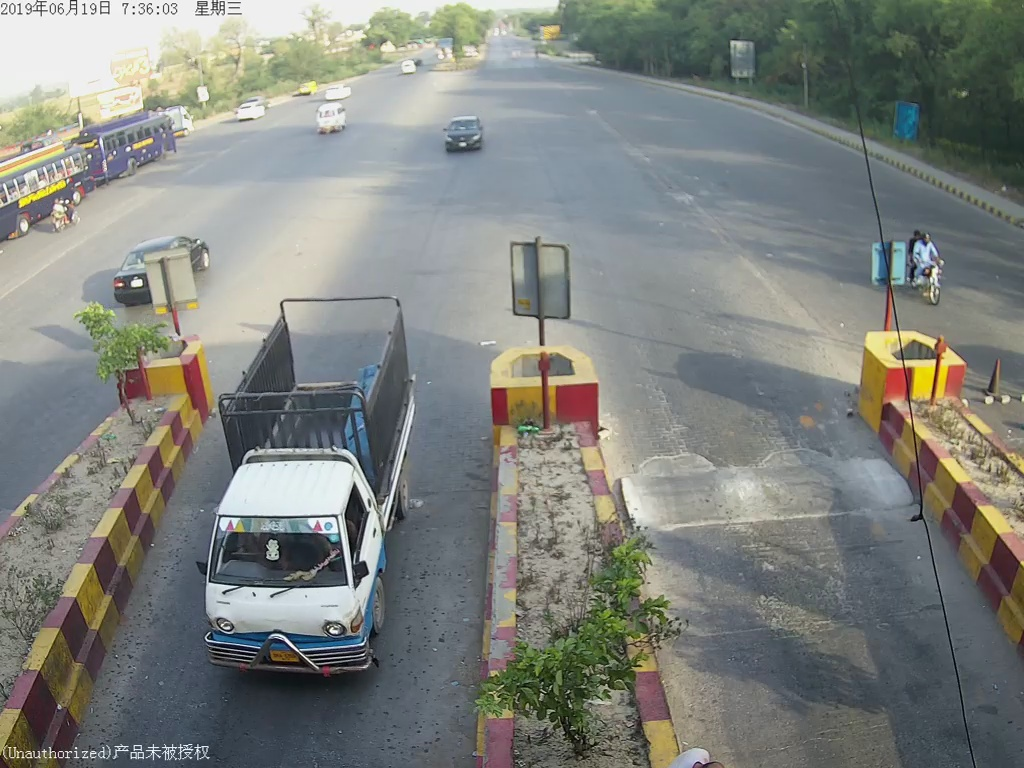Cat-1: (438, 110, 489, 161)
Cat-2: (212, 279, 403, 678)
